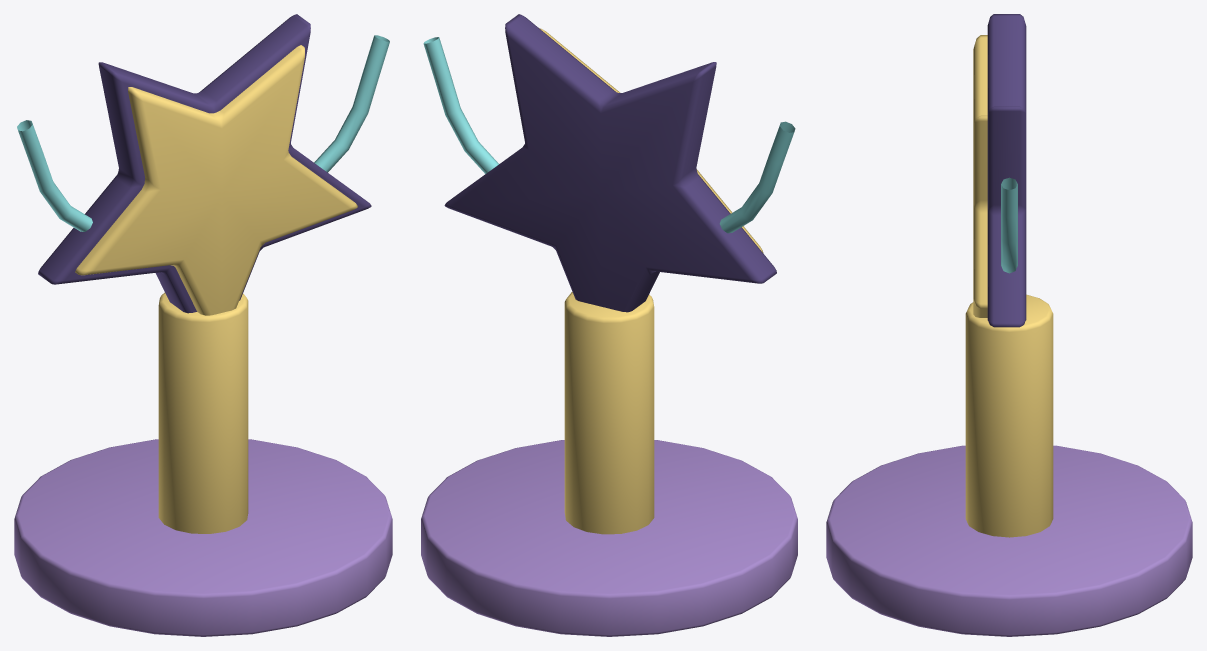
The model's file is music_song_star.glb.
3 renders of one model, left to right at view 1: azimuth 30°, elevation 25°; view 2: azimuth 150°, elevation 25°; view 3: azimuth 270°, elevation 25°, orthographic. The views are drawn at different scales.
Visible parts, largest first — view 1: PedestalFoot, StarFace, PedestalStem, StarInk, MusicCurl_1.0, MusicCurl_-1.0; view 2: PedestalFoot, StarInk, PedestalStem, MusicCurl_1.0, MusicCurl_-1.0; view 3: PedestalFoot, PedestalStem, StarInk, StarFace, MusicCurl_1.0.
Boxes of the visible parts, x1,y1,x2,y2 form: PedestalFoot: (14, 439, 392, 636); StarFace: (75, 45, 357, 315); PedestalStem: (158, 292, 248, 533); StarInk: (38, 14, 371, 313); MusicCurl_1.0: (314, 35, 389, 172); MusicCurl_-1.0: (17, 120, 92, 231); PedestalFoot: (421, 440, 797, 636); StarInk: (444, 14, 776, 312); PedestalStem: (564, 292, 654, 534); MusicCurl_1.0: (423, 37, 498, 173); MusicCurl_-1.0: (719, 121, 795, 233); PedestalFoot: (826, 445, 1192, 636); PedestalStem: (965, 294, 1053, 537); StarInk: (987, 14, 1026, 327); StarFace: (973, 35, 987, 317); MusicCurl_1.0: (1001, 177, 1017, 273).
Size of the model in its own units: 3.22 by 4.28 by 2.84.
